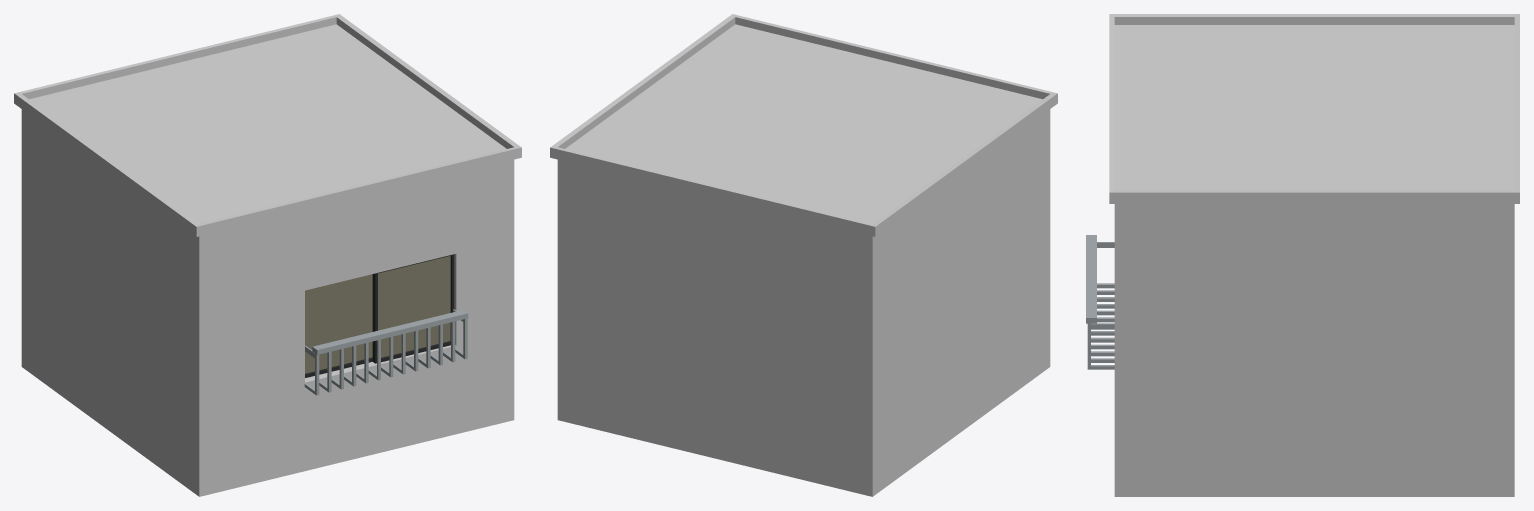
Rendered from house2.fbx.
3 views of the same model, side by side, from view 1: azimuth 30°, elevation 25°; view 2: azimuth 150°, elevation 25°; view 3: azimuth 270°, elevation 25° (orthographic). The views are drawn at different scales.
Parts seen in each view (by area): view 1: polySurface3, polySurface40, windowfence, polySurface42; view 2: polySurface3; view 3: polySurface3, windowfence.
Part boxes in pixels (left/top/right/bottom): polySurface3: left=14, top=14, right=521, bottom=496; polySurface40: left=305, top=256, right=450, bottom=373; windowfence: left=304, top=309, right=468, bottom=395; polySurface42: left=305, top=254, right=454, bottom=377; polySurface3: left=550, top=14, right=1057, bottom=496; polySurface3: left=1109, top=14, right=1519, bottom=496; windowfence: left=1086, top=235, right=1114, bottom=369.
Bounding box in the file's own units: 39.44 × 31.64 × 40.48.
